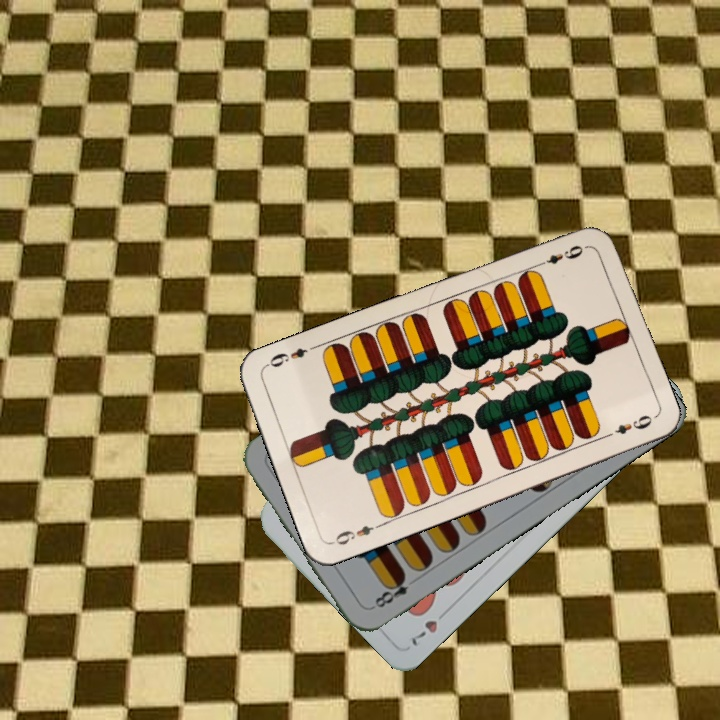E8: (367, 570, 412, 612)
E9: (328, 519, 385, 548), (533, 241, 590, 269)
H7: (407, 604, 453, 649)
